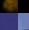pot: (0, 0, 18, 13)
